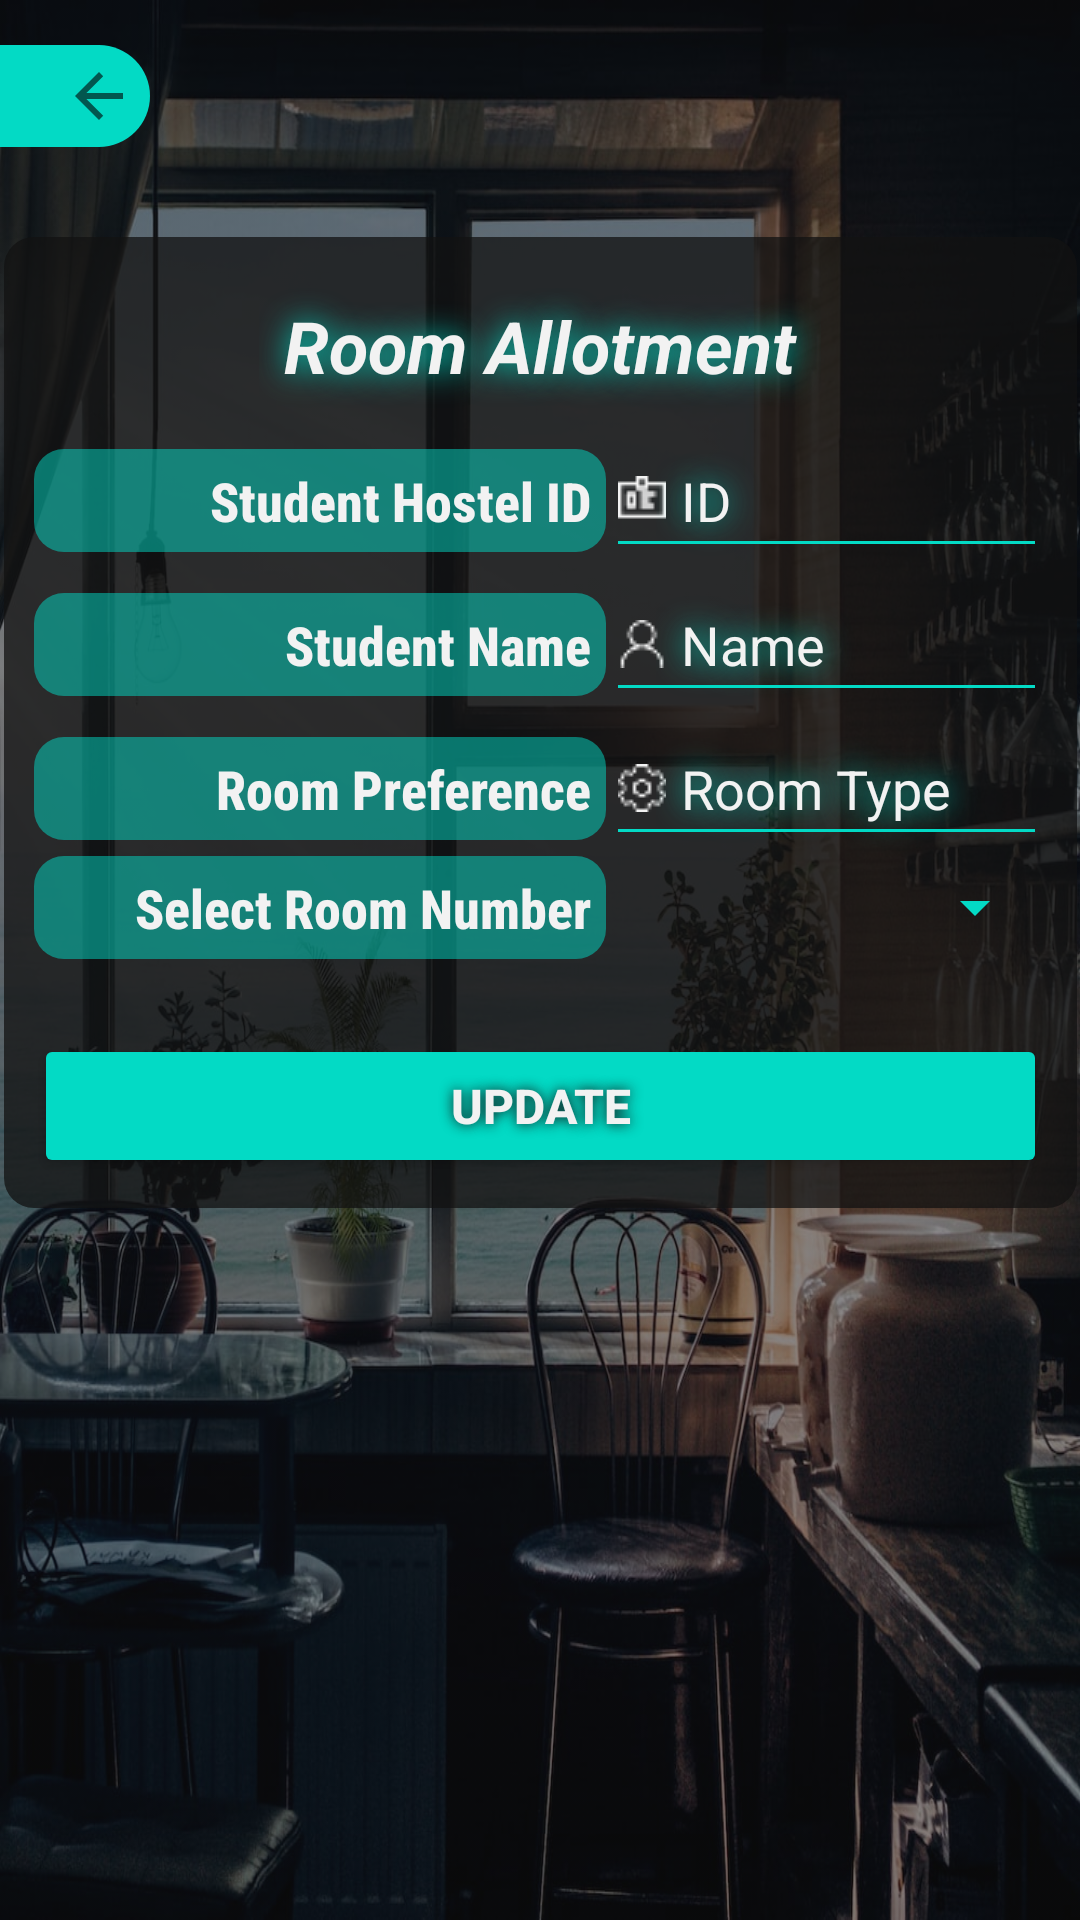

Named icons in this screenshot (1080w x 1920h) and their centers, (x=x, y=y):
back button: (x=75, y=96)
